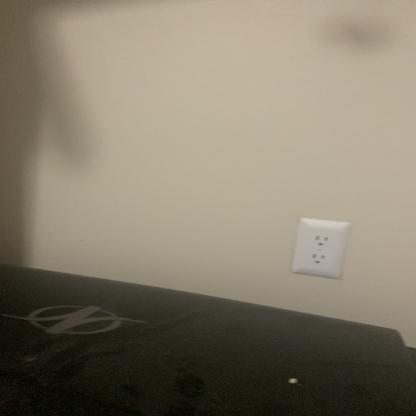OUTLET: (294, 217, 347, 277)
